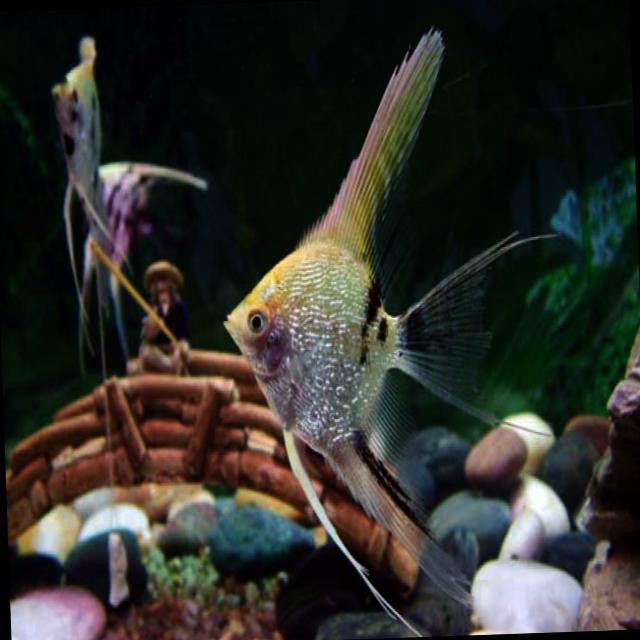AngelFish: (218, 29, 564, 640), (41, 24, 222, 542)
